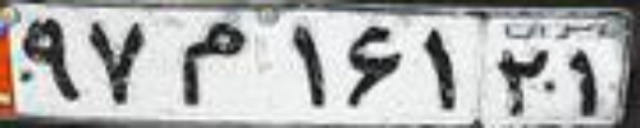1: (422, 27, 458, 109), (288, 23, 322, 105), (567, 46, 598, 117)
2: (497, 49, 550, 118)
6: (339, 25, 402, 107)
7: (88, 19, 150, 105)
9: (22, 17, 80, 101)
mim: (172, 22, 246, 106)
